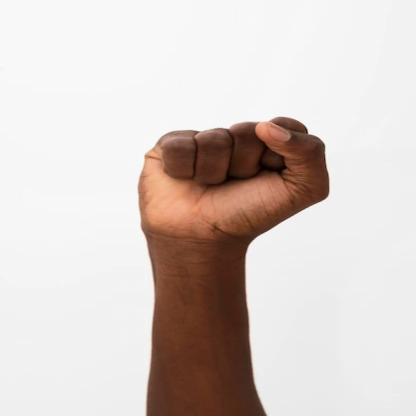fist: (119, 111, 346, 266)
